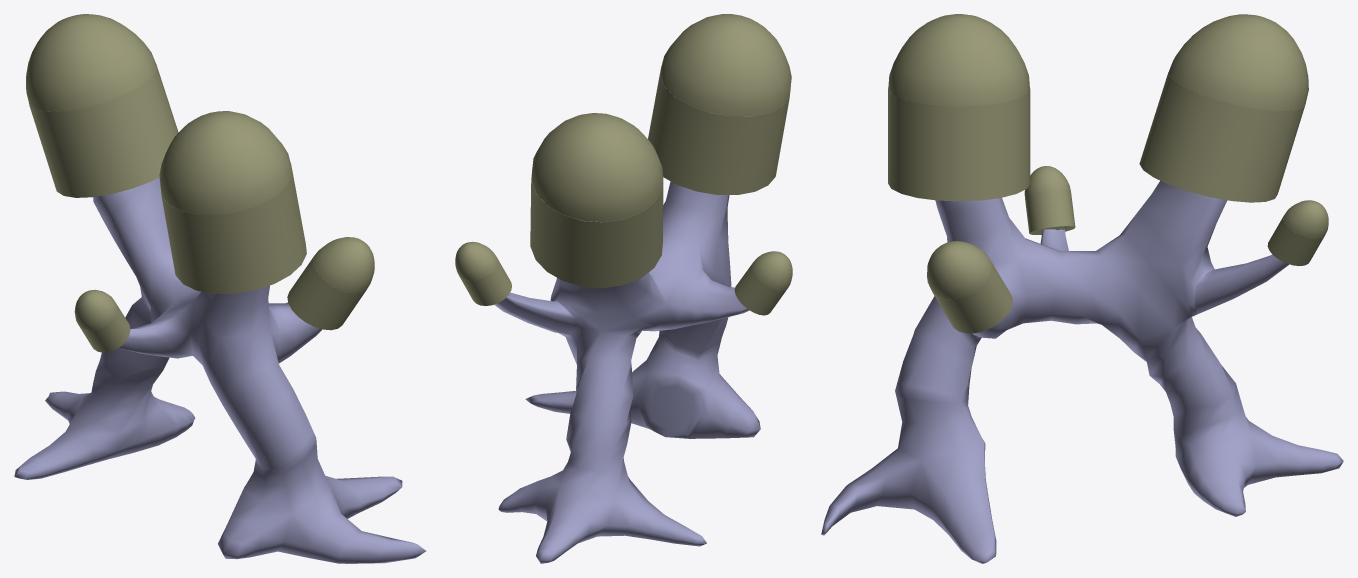
Rendered from tree3.fbx.
3 views of the same model, side by side, from view 1: azimuth 30°, elevation 25°; view 2: azimuth 150°, elevation 25°; view 3: azimuth 270°, elevation 25° (orthographic). The views are drawn at different scales.
Parts seen in each view (by area): view 1: pasted__pasted__pasted__pasted__pasted__pSphere2; view 2: pasted__pasted__pasted__pasted__pasted__pSphere2; view 3: pasted__pasted__pasted__pasted__pasted__pSphere2.
Boxes of the visible parts, box(x1,y1,x2,y2) form: pasted__pasted__pasted__pasted__pasted__pSphere2: box(14, 14, 426, 563); pasted__pasted__pasted__pasted__pasted__pSphere2: box(455, 14, 792, 563); pasted__pasted__pasted__pasted__pasted__pSphere2: box(821, 14, 1343, 563).
Size of the model in its own units: 18.11 by 25.14 by 26.19.
